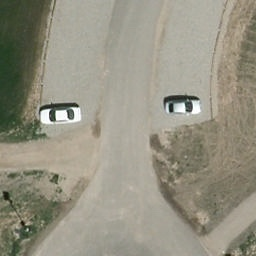car: (39, 106, 82, 124), (164, 100, 203, 115)
